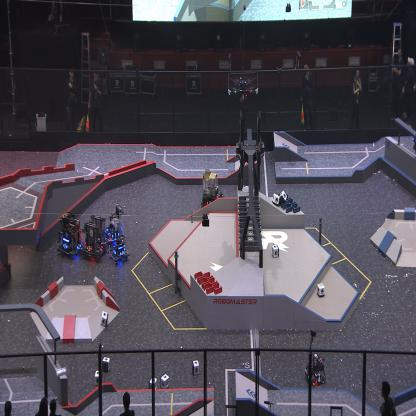car: (80, 213, 109, 262), (57, 211, 83, 258), (102, 203, 126, 249), (199, 168, 223, 212), (303, 353, 327, 388), (108, 231, 129, 264)
